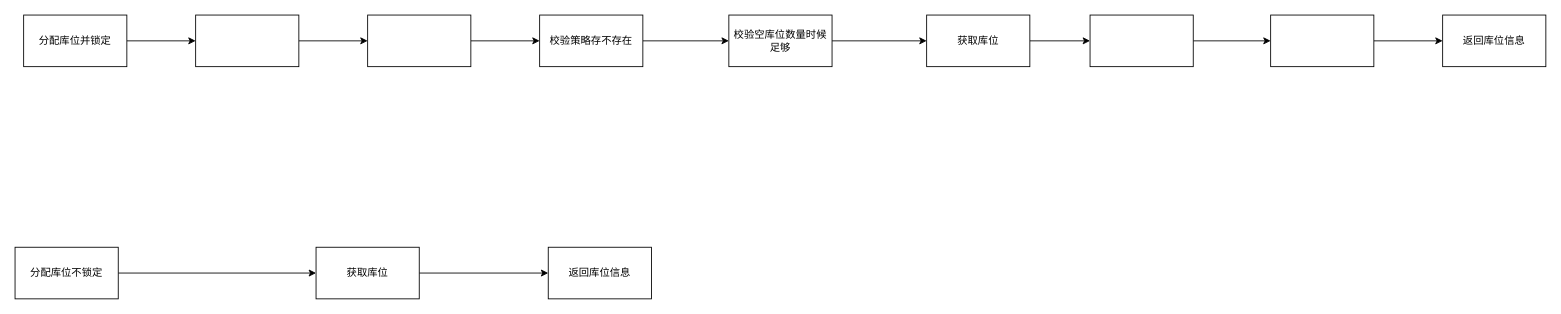
The diagram is 1561 pixels wide and 314 high, and some of its shapes have lost their labels. Here are the shapes that lost their labels. From the top down, the centre of each, then its label:
the point at 247,40: 校验托盘号
the point at 419,40: 获取策略信息
the point at 1141,40: 判断库位是否有锁
the point at 1322,40: 库位加锁
